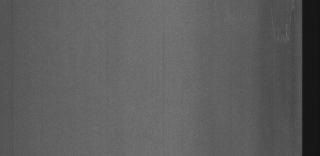silk spot: (268, 5, 298, 46)
